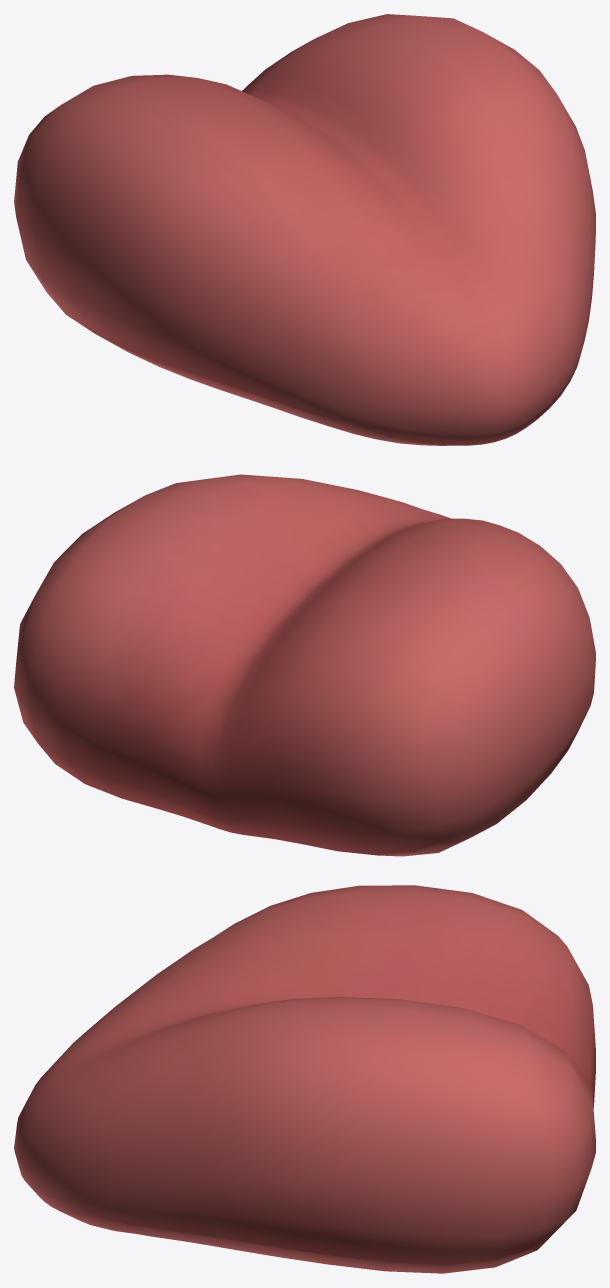
File: tongue1.glb
3 renders of one model, top to bottom at view 1: azimuth 30°, elevation 25°; view 2: azimuth 150°, elevation 25°; view 3: azimuth 270°, elevation 25°, orthographic. The views are drawn at different scales.
Visible parts, largest first — view 1: tongue.001; view 2: tongue.001; view 3: tongue.001.
Part boxes in pixels (left/top/right/bottom): tongue.001: left=14, top=14, right=595, bottom=445; tongue.001: left=14, top=474, right=595, bottom=856; tongue.001: left=14, top=885, right=595, bottom=1273.
Size of the model in its own units: 0.398 by 0.199 by 0.4293.
1 material, 1 textured.
